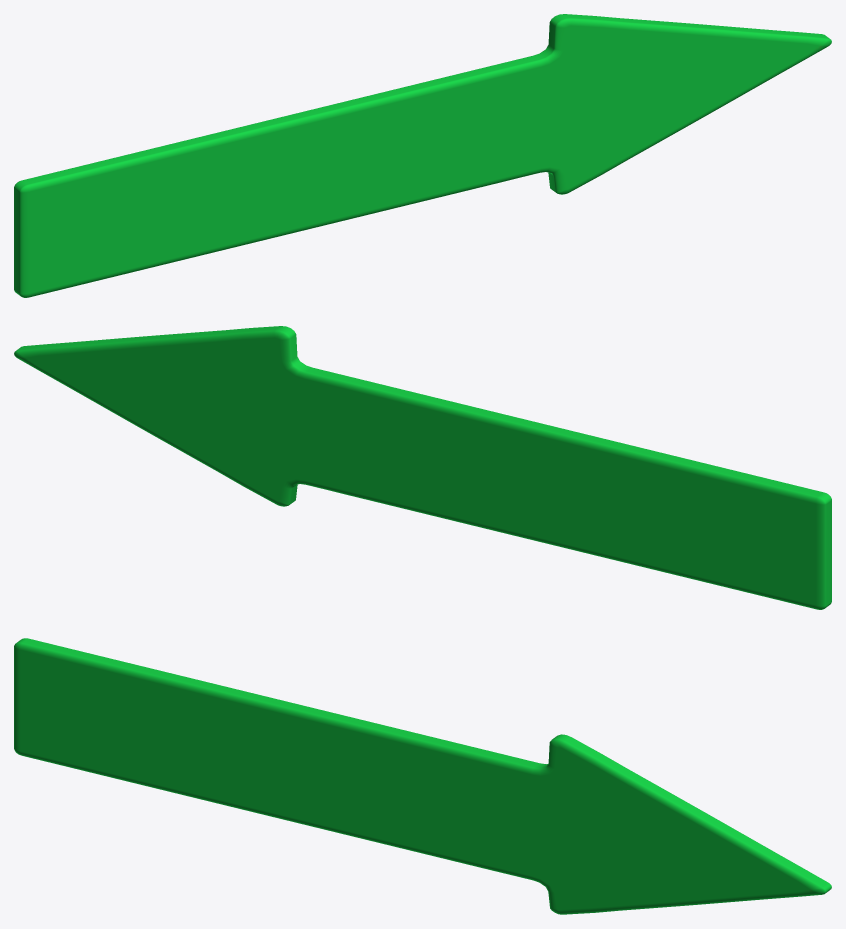
Rendered from flecb.fbx.
3 renders of one model, top to bottom at view 1: azimuth 30°, elevation 25°; view 2: azimuth 150°, elevation 25°; view 3: azimuth 330°, elevation 25°, orthographic.
Parts seen in each view (by area): view 1: node_id92; view 2: node_id92; view 3: node_id92.
Boxes of the visible parts, x1,y1,x2,y2 form: node_id92: (14,14,831,297); node_id92: (14,326,831,609); node_id92: (14,638,831,914).
Size of the model in its own units: 1.67 by 0.3448 by 0.034.
Materials: 1 (1 with a texture image).
